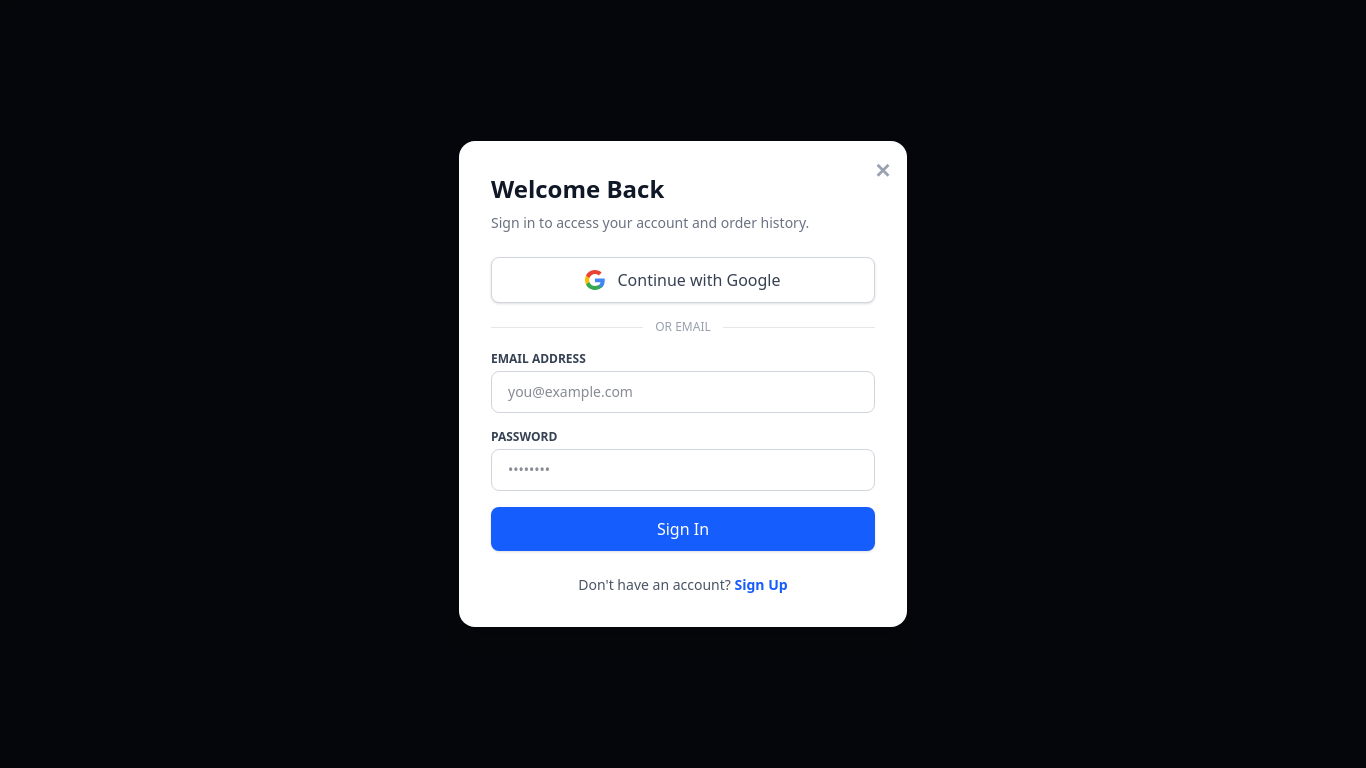
Test: [P1] AuthModal Component › toggles to the Sign Up form when the switch button is clicked
Click the button "Sign Up": (761, 585) [734, 575, 788, 595]
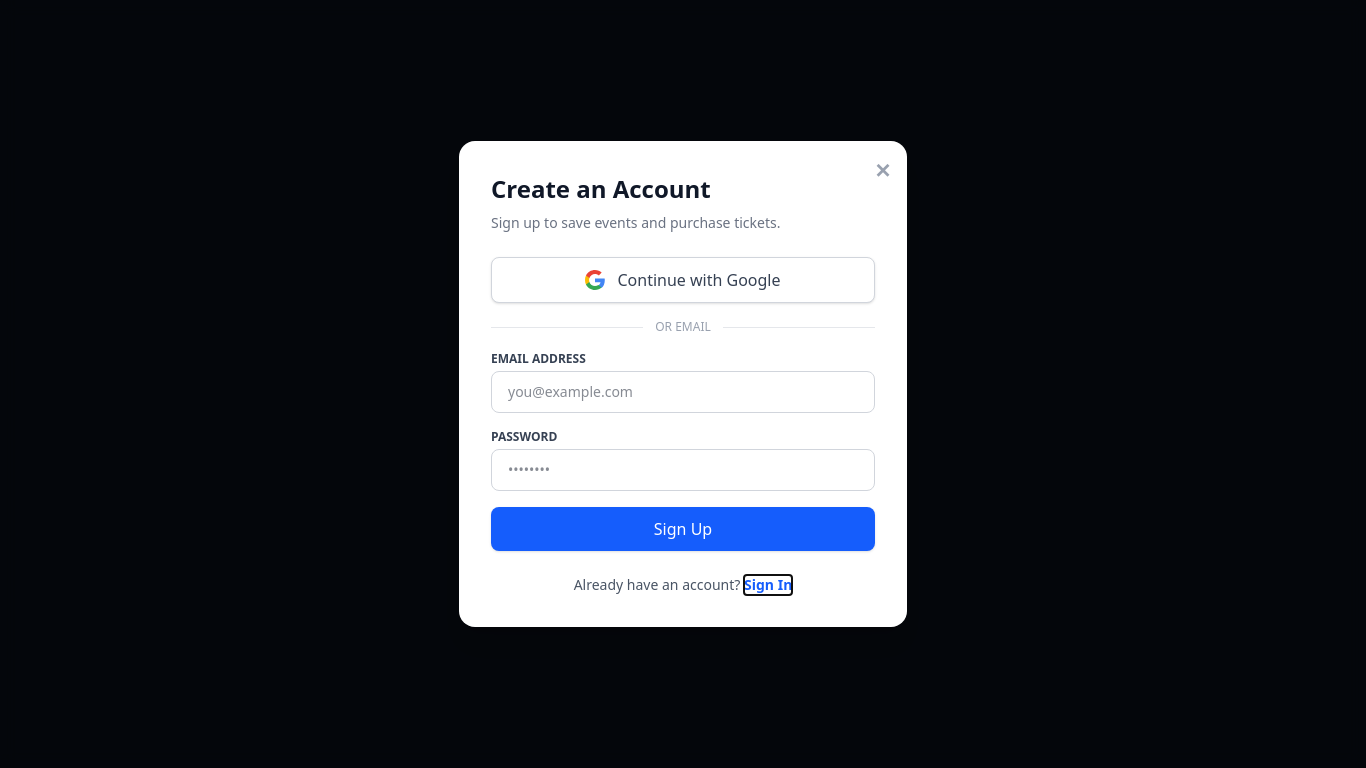
Expected: the heading "Create an Account" is shown, [491, 172, 711, 205]
Expected: the button "Sign Up" is shown, [491, 507, 875, 551]
